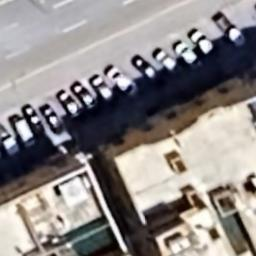pickup: (212, 9, 248, 47)
sedan: (107, 64, 137, 96), (73, 78, 96, 116), (190, 29, 218, 58), (177, 39, 203, 70), (153, 48, 180, 76), (136, 57, 162, 86), (92, 74, 115, 104), (26, 104, 46, 136), (44, 102, 62, 136), (62, 88, 81, 118)
van: (14, 114, 31, 148), (2, 130, 19, 160)
